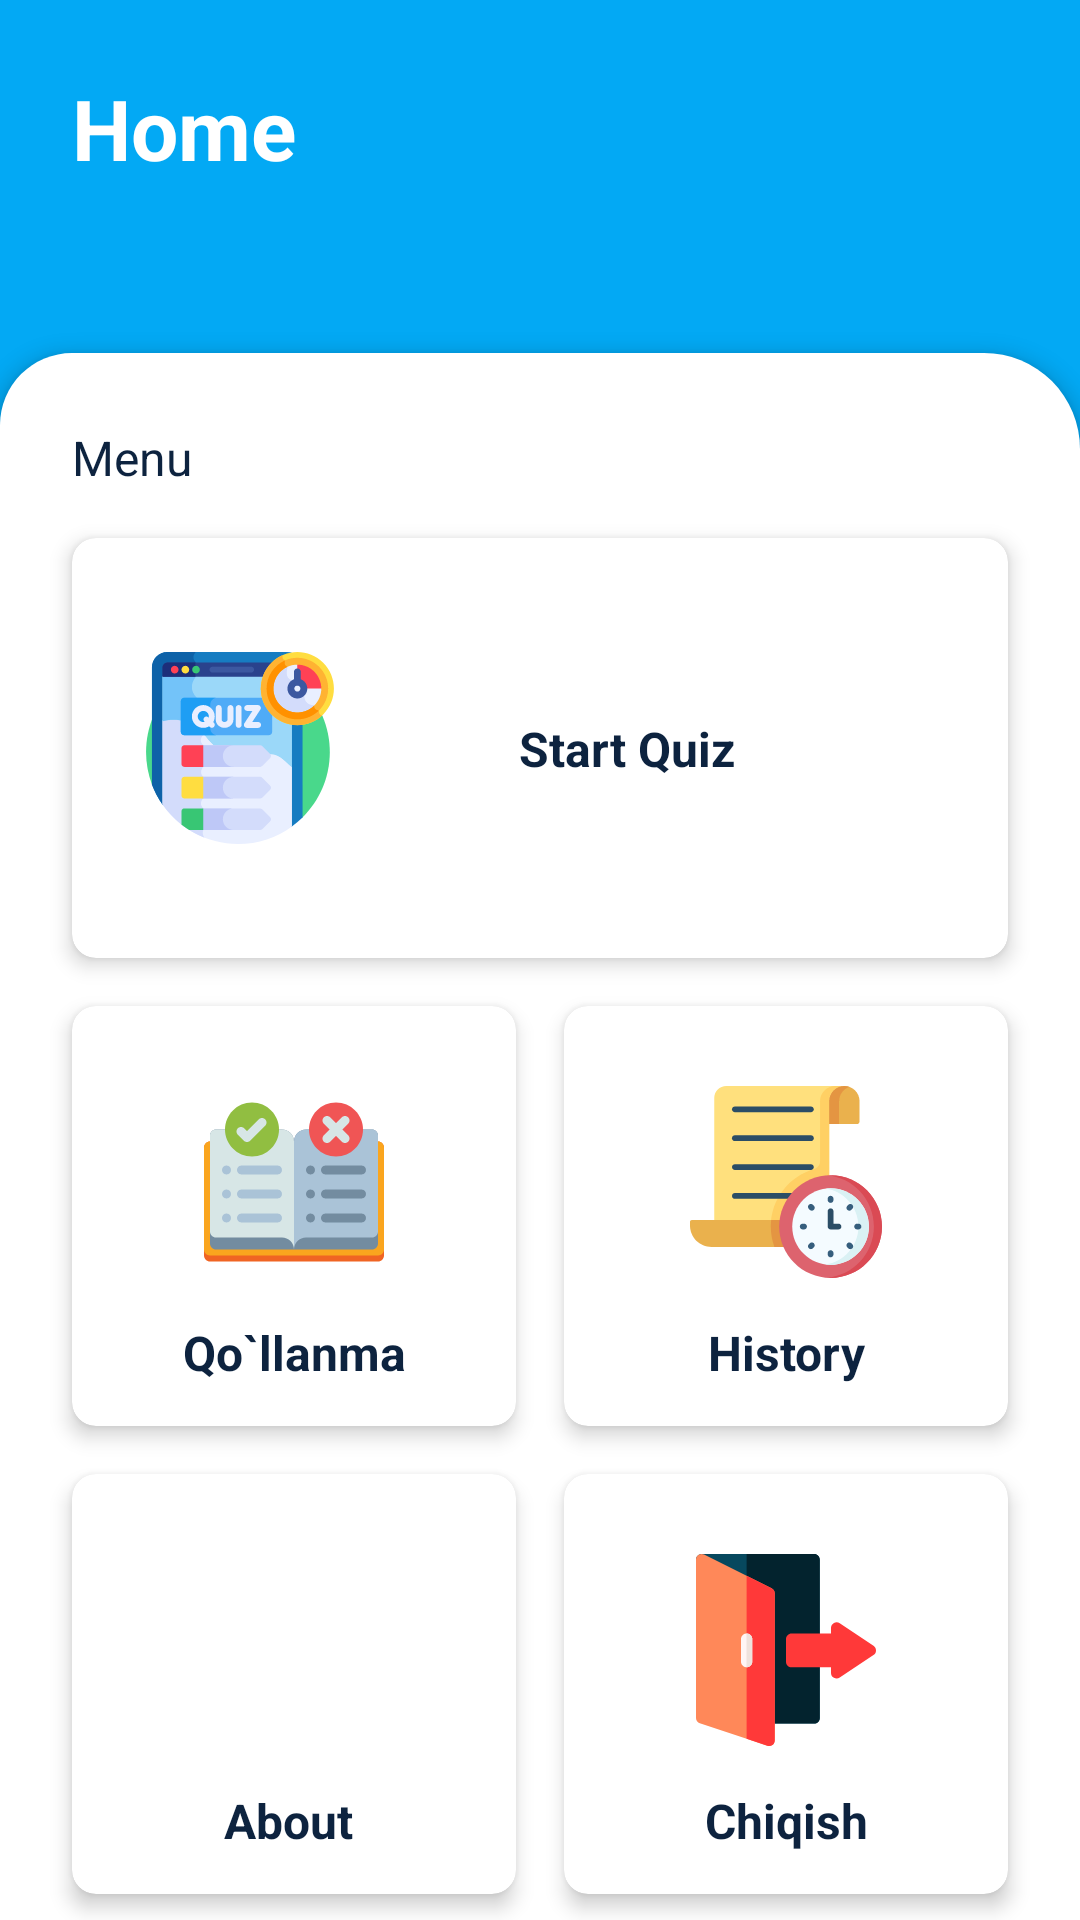

Icons on this 1080 x 1920 Android screen, each with its box as (x1, y1, x2, y2):
rules: (204, 1102, 384, 1262)
